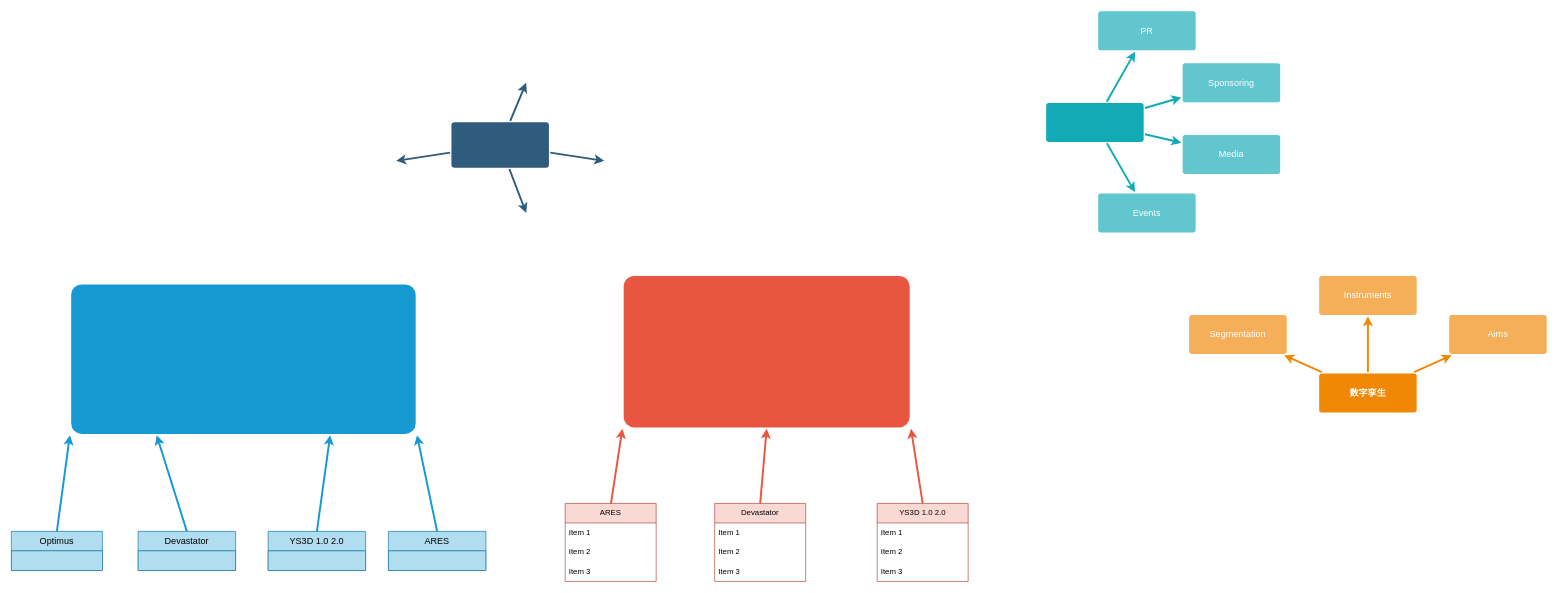
Image size: 1558x593. Some labels were removed from this diagram. The centre of each missing label's shape, as x and y in pixels:
Advertising: the point at 500,144
CAE365专业软件 吊耳、支架、海上风电、水动力 金属闸门: the point at 766,351
CAE365通用 结构仿真、流体仿真: the point at 243,359
RDP: the point at 1094,122
前后处理数据解析，计算: the point at 437,560
前后处理渲染、交互: the point at 316,560
商软网格转MED: the point at 56,560
无UI salome API 网格划分: the point at 186,560
